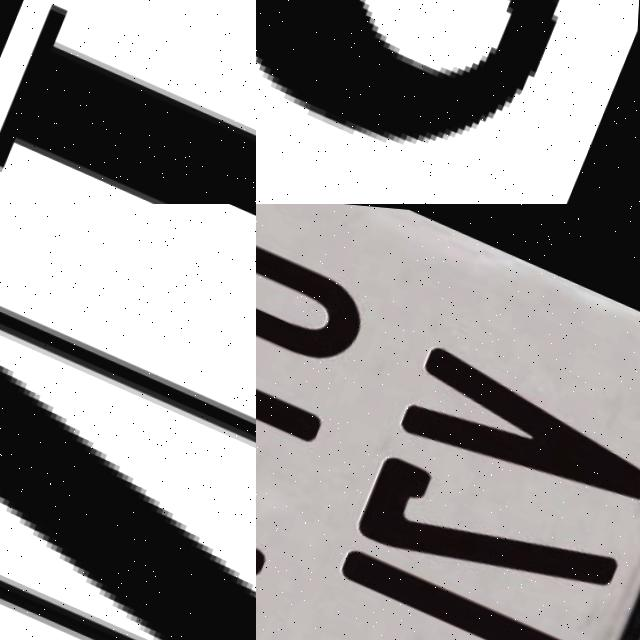0: (256, 204, 385, 367)
7: (352, 439, 627, 629)
8: (256, 0, 612, 189)
H: (0, 0, 256, 204)
L: (314, 533, 588, 640)
N: (0, 204, 256, 640)
V: (397, 329, 640, 519)
Y: (256, 285, 343, 473)
